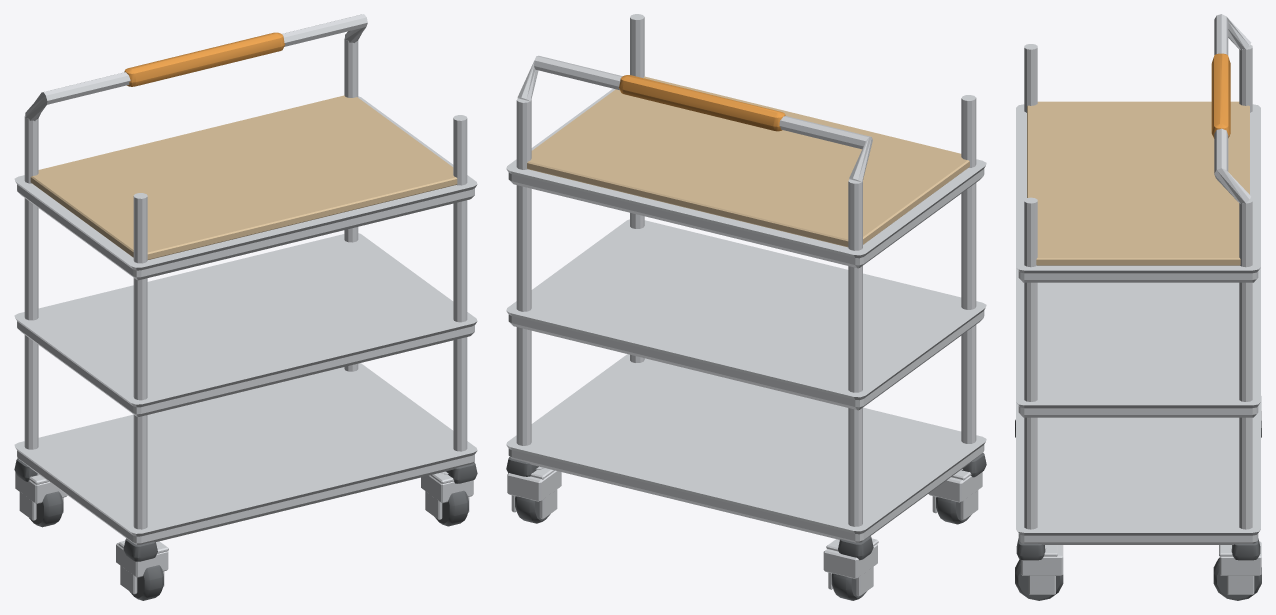
Rendered from warehouse-shelf-trolley.glb.
3 views of the same model, side by side, from view 1: azimuth 30°, elevation 25°; view 2: azimuth 150°, elevation 25°; view 3: azimuth 270°, elevation 25° (orthographic). The views are drawn at different scales.
Parts seen in each view (by area): view 1: warehouse-shelf-trolley; view 2: warehouse-shelf-trolley; view 3: warehouse-shelf-trolley.
Boxes of the visible parts, x1,y1,x2,y2 form: warehouse-shelf-trolley: (14,14,477,600); warehouse-shelf-trolley: (506,14,986,600); warehouse-shelf-trolley: (1015,14,1261,600).
Size of the model in its own units: 0.952 by 1.16 by 0.597.
